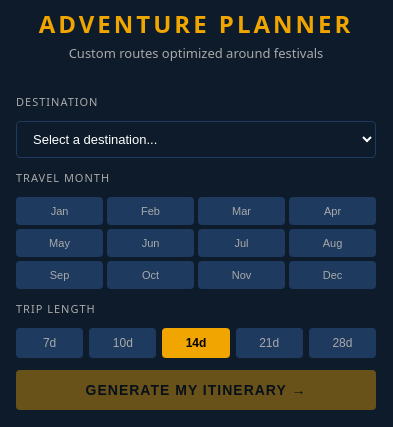
Test: LandingView › generate button enabled after country and month selected
Select "🇲🇳 Mongolia" in the dropdown at [196, 140], box 16,121 -> 376,158
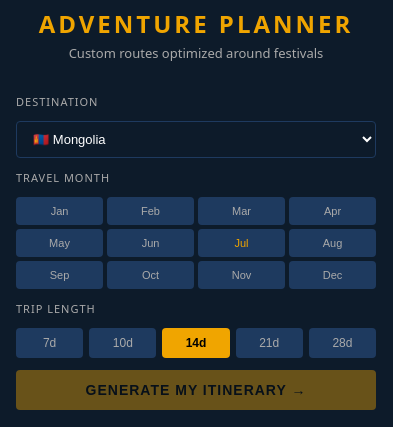
Click the button "Jul" at [242, 243], box 198,229 -> 285,257
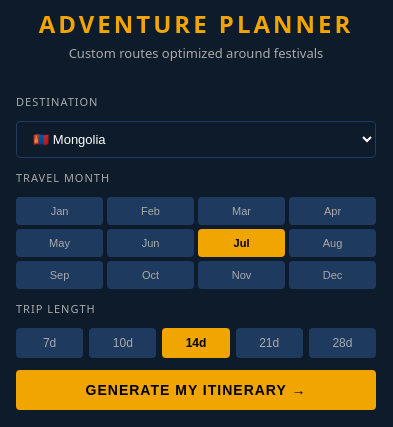
Check: the button "GENERATE MY ITINERARY →" is enabled, box 16,370 -> 376,410
